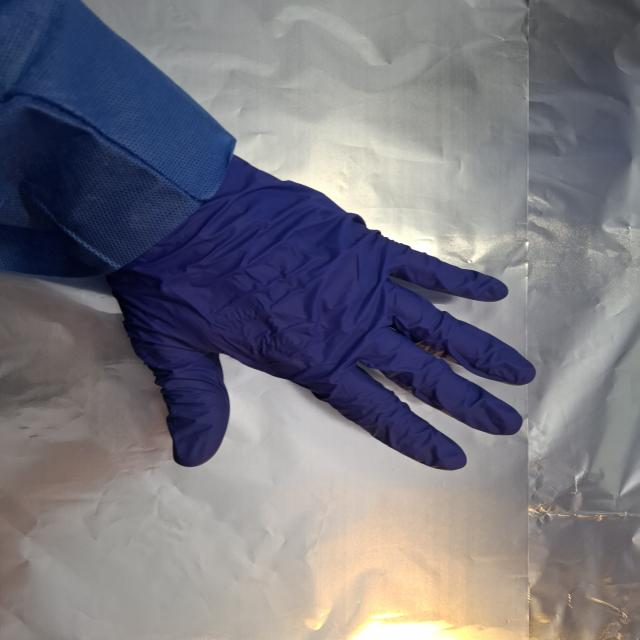glove_on: (96, 167, 541, 473)
